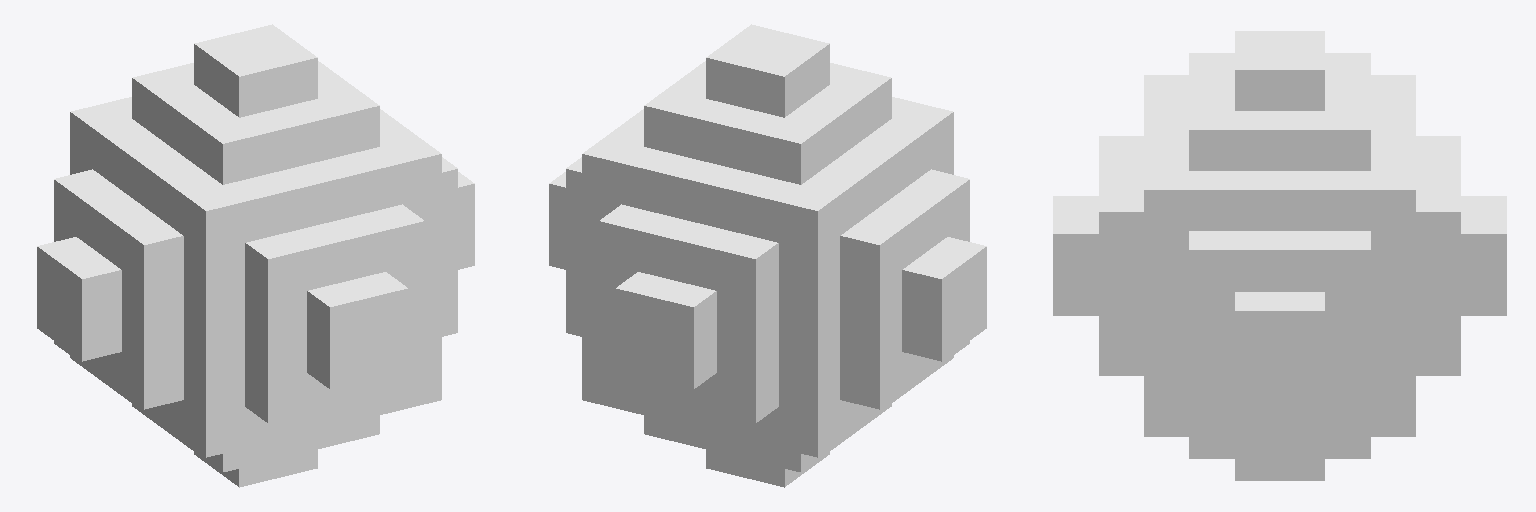
File: meteorChunk.obj
The picture shows the model from 3 angles: view 1: azimuth 30°, elevation 25°; view 2: azimuth 150°, elevation 25°; view 3: azimuth 270°, elevation 25°; orthographic projection.
Visible parts, largest first — view 1: meteorChunk; view 2: meteorChunk; view 3: meteorChunk.
Part boxes in pixels (x1,y1,x2,y2): meteorChunk: (37,24,474,487); meteorChunk: (549,24,986,487); meteorChunk: (1053,31,1506,480).
Bounding box in the file's own units: 10 × 10 × 10.